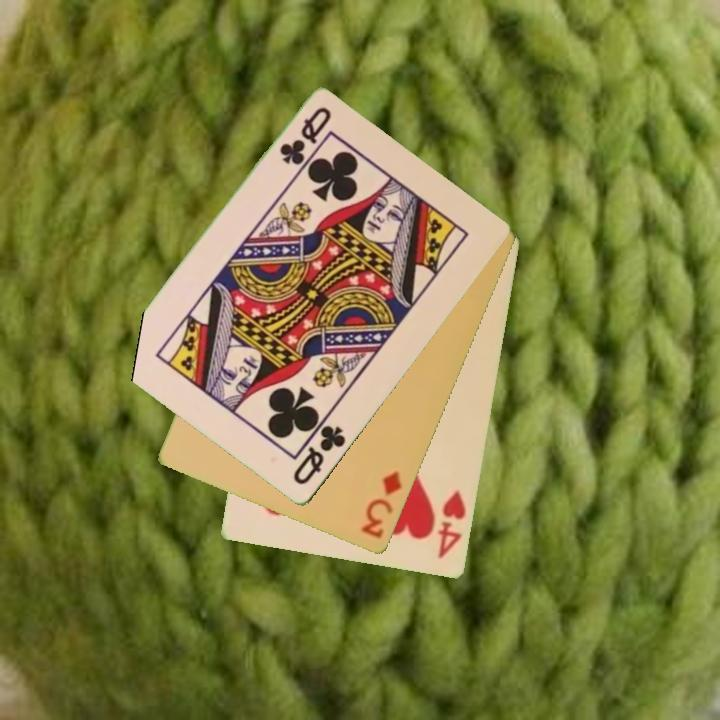3d: (358, 467, 405, 543)
4h: (435, 487, 469, 562)
Qc: (289, 422, 349, 489), (275, 104, 335, 169)
